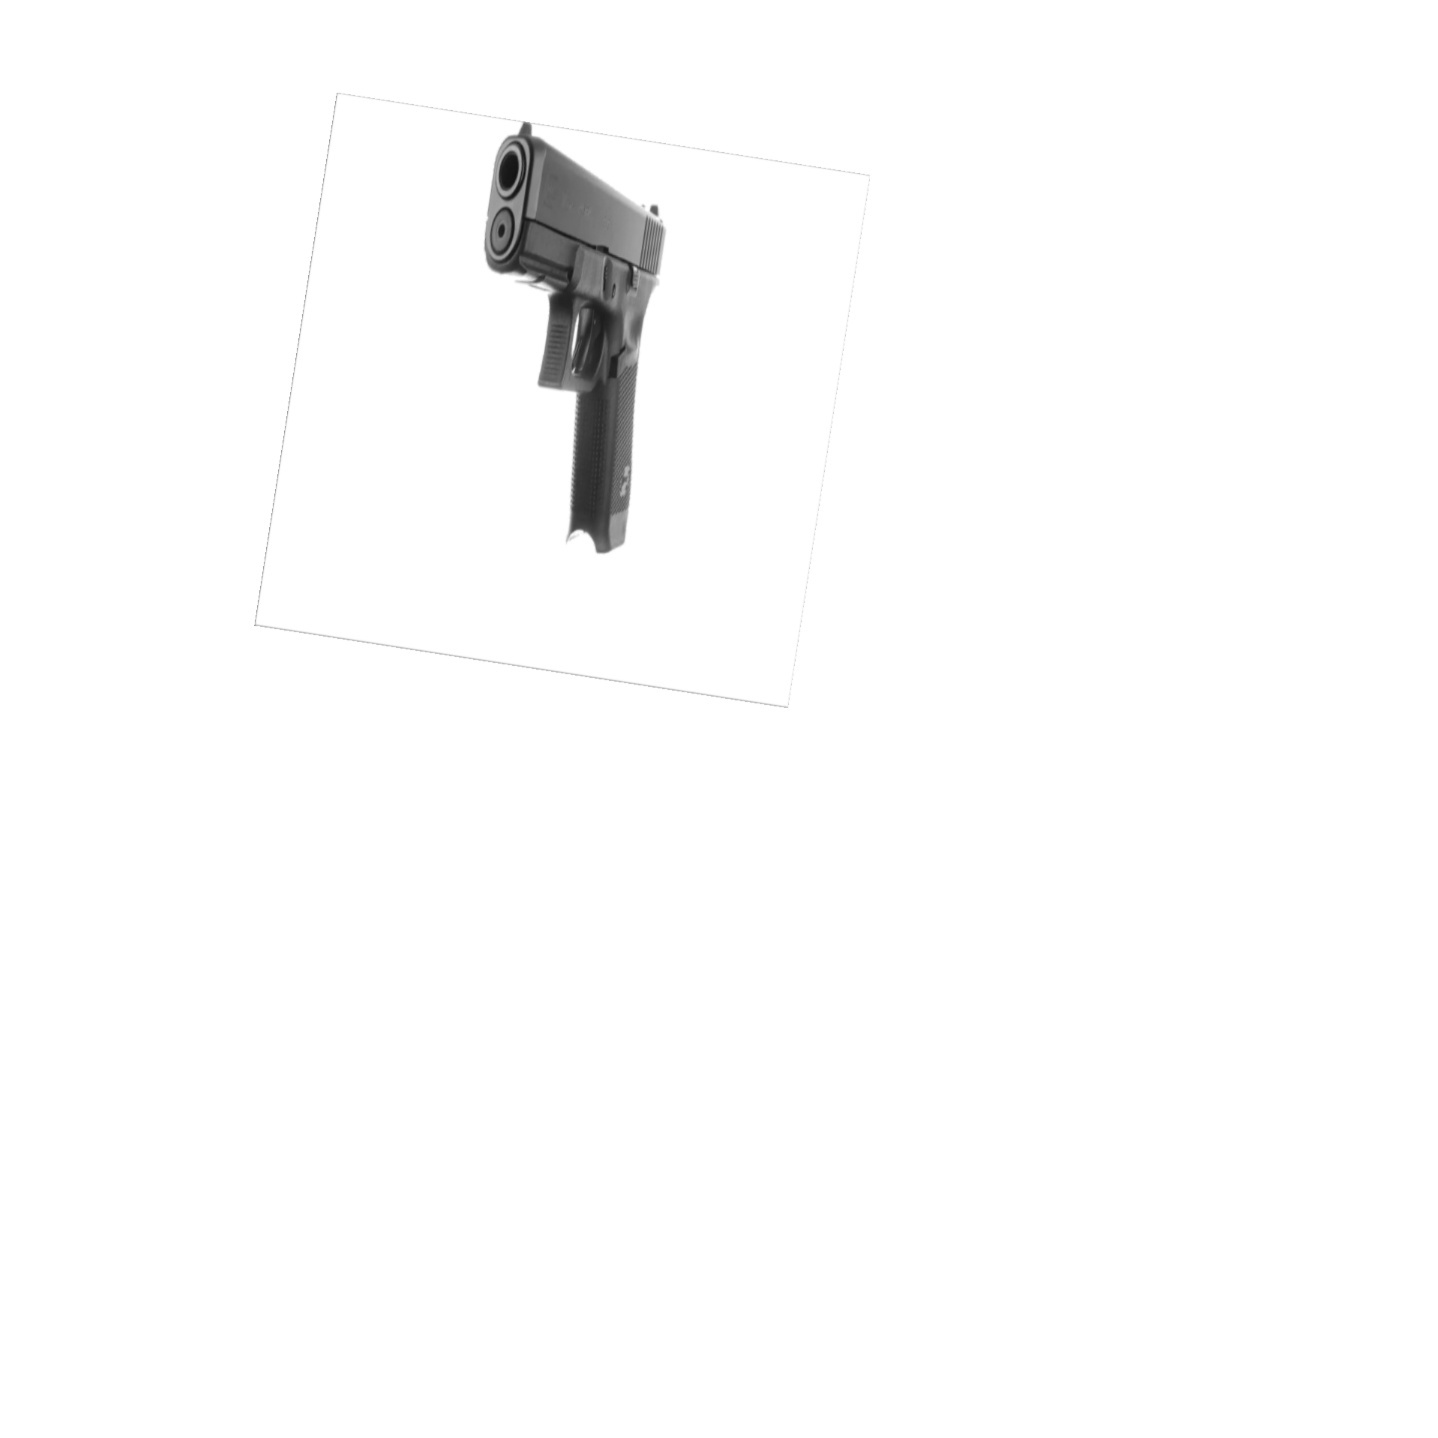gun: (471, 119, 660, 569)
